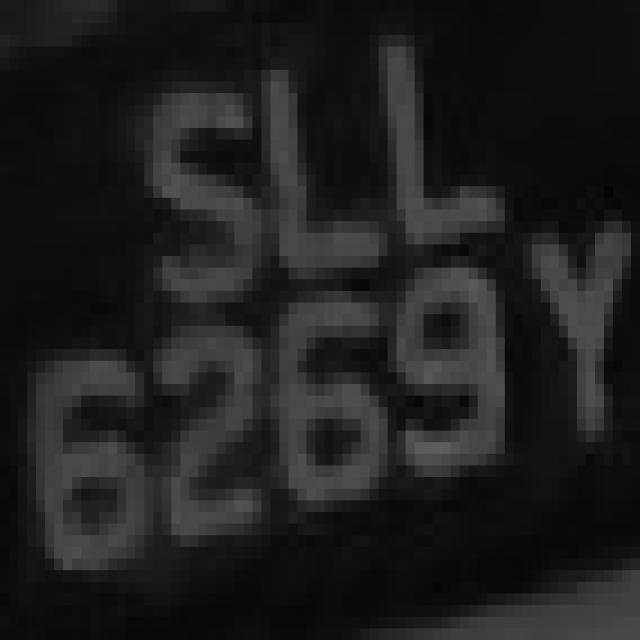2: (144, 314, 280, 570)
6: (18, 326, 153, 617), (262, 268, 406, 535)
9: (369, 232, 514, 524)
L: (235, 47, 388, 314), (360, 35, 523, 256)
S: (126, 35, 262, 314)
Y: (505, 221, 631, 454)
